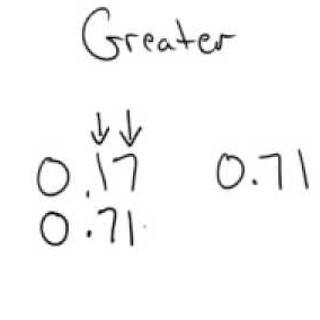.: (82, 227, 96, 244), (247, 173, 261, 189), (81, 186, 92, 200)
0: (32, 153, 71, 199), (34, 205, 73, 251), (214, 149, 247, 191)
1: (293, 142, 314, 192), (119, 204, 141, 251), (91, 148, 112, 196)
7: (111, 150, 144, 195), (256, 146, 287, 191), (95, 204, 122, 248)
